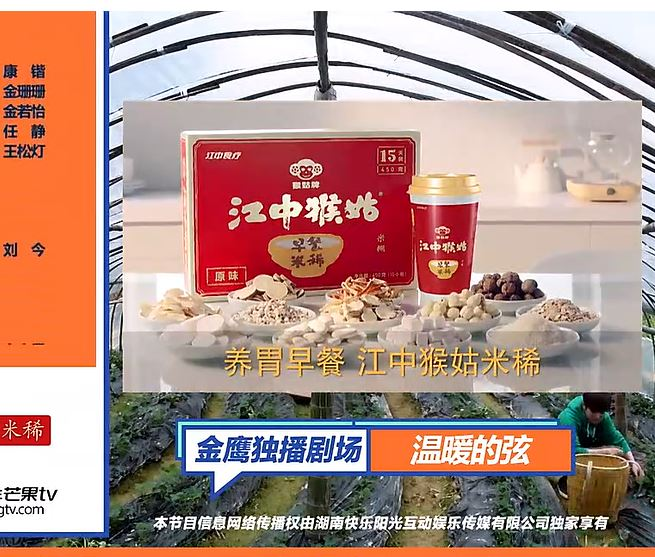box: (179, 127, 418, 292)
cup: (409, 173, 478, 297)
